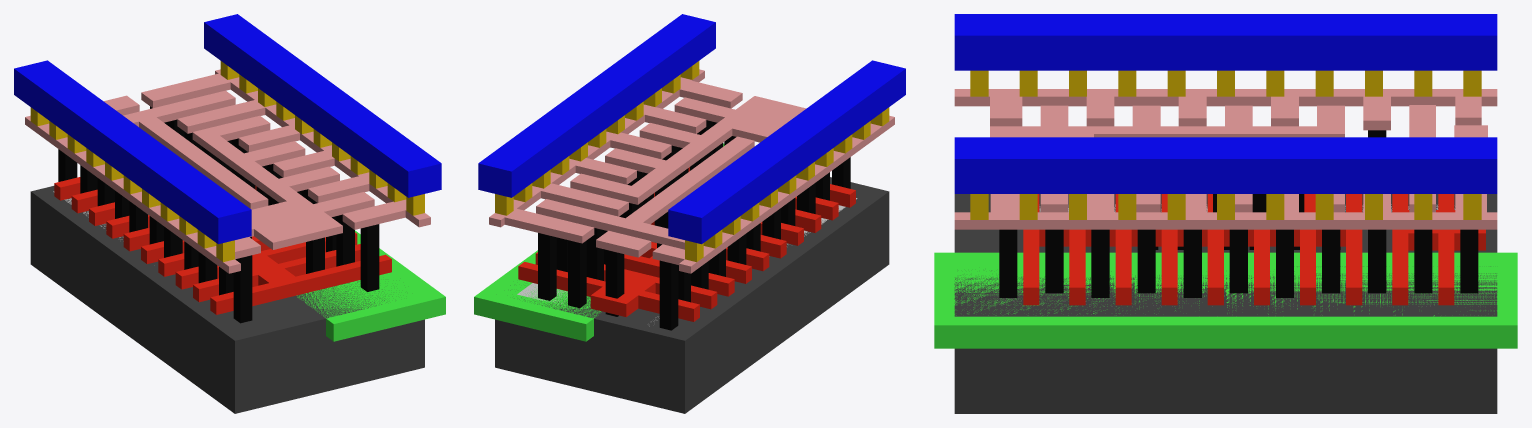
File: sky130_fd_sc_hd__clkbuf_8.obj
3 renders of one model, left to right at view 1: azimuth 30°, elevation 25°; view 2: azimuth 150°, elevation 25°; view 3: azimuth 270°, elevation 25°, orthographic. The views are drawn at different scales.
Visible parts, largest first — view 1: subs, metal1, li, poly, licon, nwell, mcon; view 2: subs, metal1, li, licon, poly, mcon, nwell; view 3: metal1, subs, li, nwell, poly, licon, mcon.
Part boxes in pixels (x1=…): subs: x1=30, y1=186, x2=424, y2=413; metal1: x1=14, y1=14, x2=441, y2=244; li: x1=25, y1=69, x2=430, y2=273; poly: x1=54, y1=177, x2=391, y2=314; licon: x1=58, y1=106, x2=379, y2=323; nwell: x1=296, y1=230, x2=445, y2=341; mcon: x1=30, y1=61, x2=424, y2=262; subs: x1=495, y1=177, x2=889, y2=413; metal1: x1=478, y1=14, x2=905, y2=244; li: x1=489, y1=69, x2=894, y2=273; licon: x1=538, y1=120, x2=850, y2=330; poly: x1=518, y1=167, x2=855, y2=321; mcon: x1=495, y1=61, x2=889, y2=262; nwell: x1=474, y1=143, x2=724, y2=341; metal1: x1=954, y1=14, x2=1497, y2=193; subs: x1=954, y1=194, x2=1497, y2=413; li: x1=954, y1=89, x2=1497, y2=229; nwell: x1=934, y1=252, x2=1517, y2=348; poly: x1=1023, y1=194, x2=1485, y2=305; licon: x1=999, y1=130, x2=1478, y2=297; mcon: x1=970, y1=70, x2=1481, y2=219.
Bounding box in the file's own units: 3.2 × 2.74 × 5.44.
